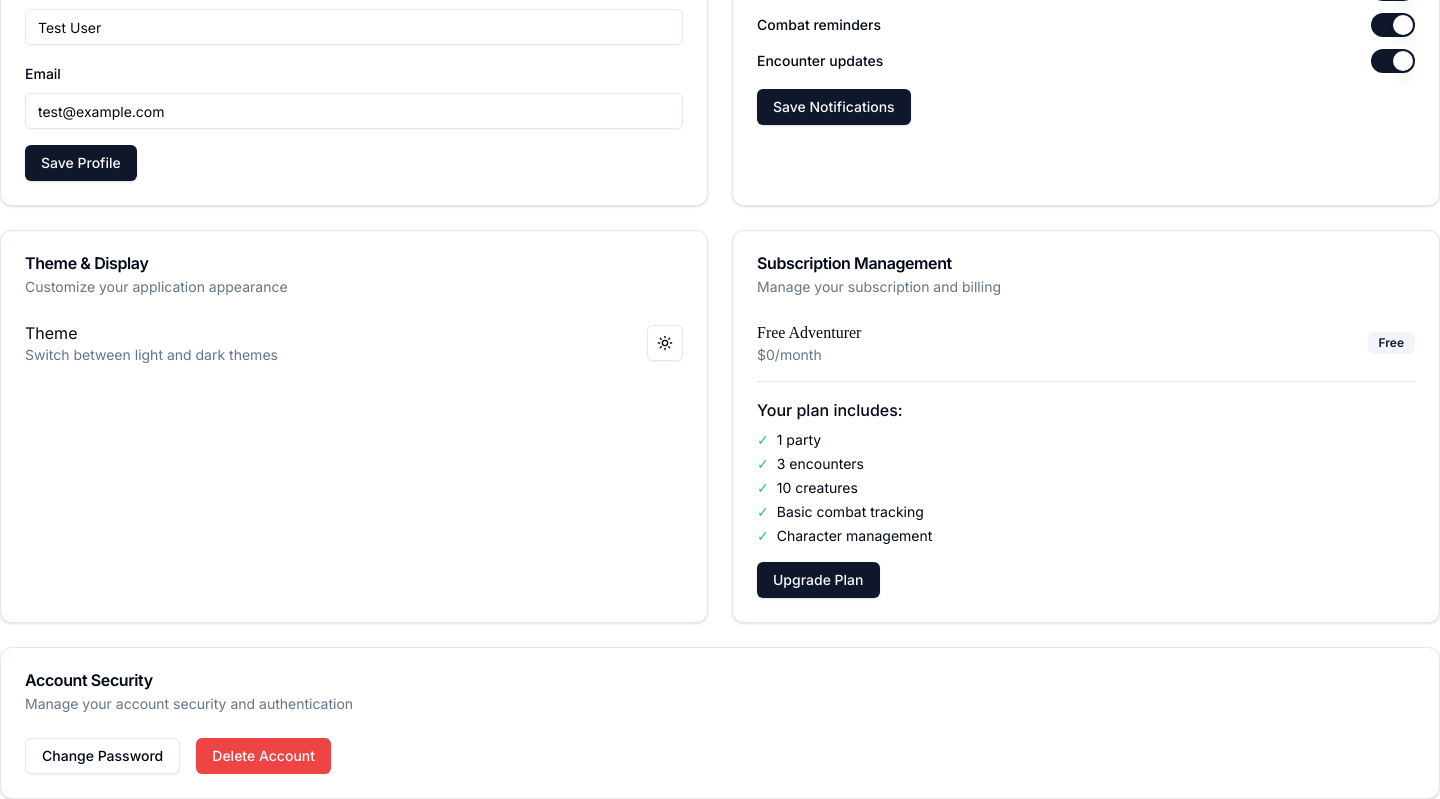
Test: Settings Component - Account Deletion › Delete Confirmation Modal › should close modal when cancel is clicked
(page scrolled)
Click the button "Delete Account".
click(264, 756)  # box [196,738,331,774]
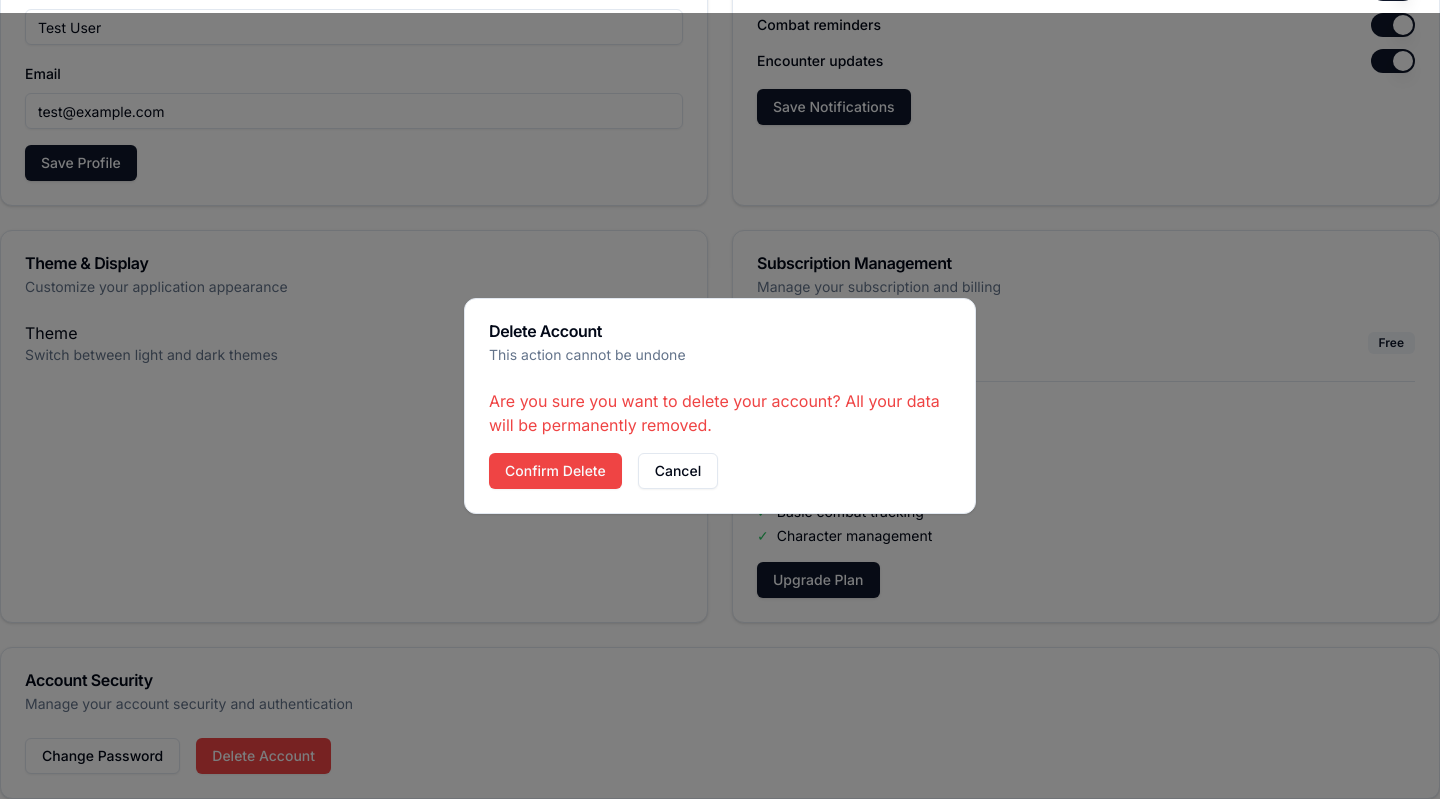
Click the button "Cancel".
click(678, 471)  # box [638,453,718,489]
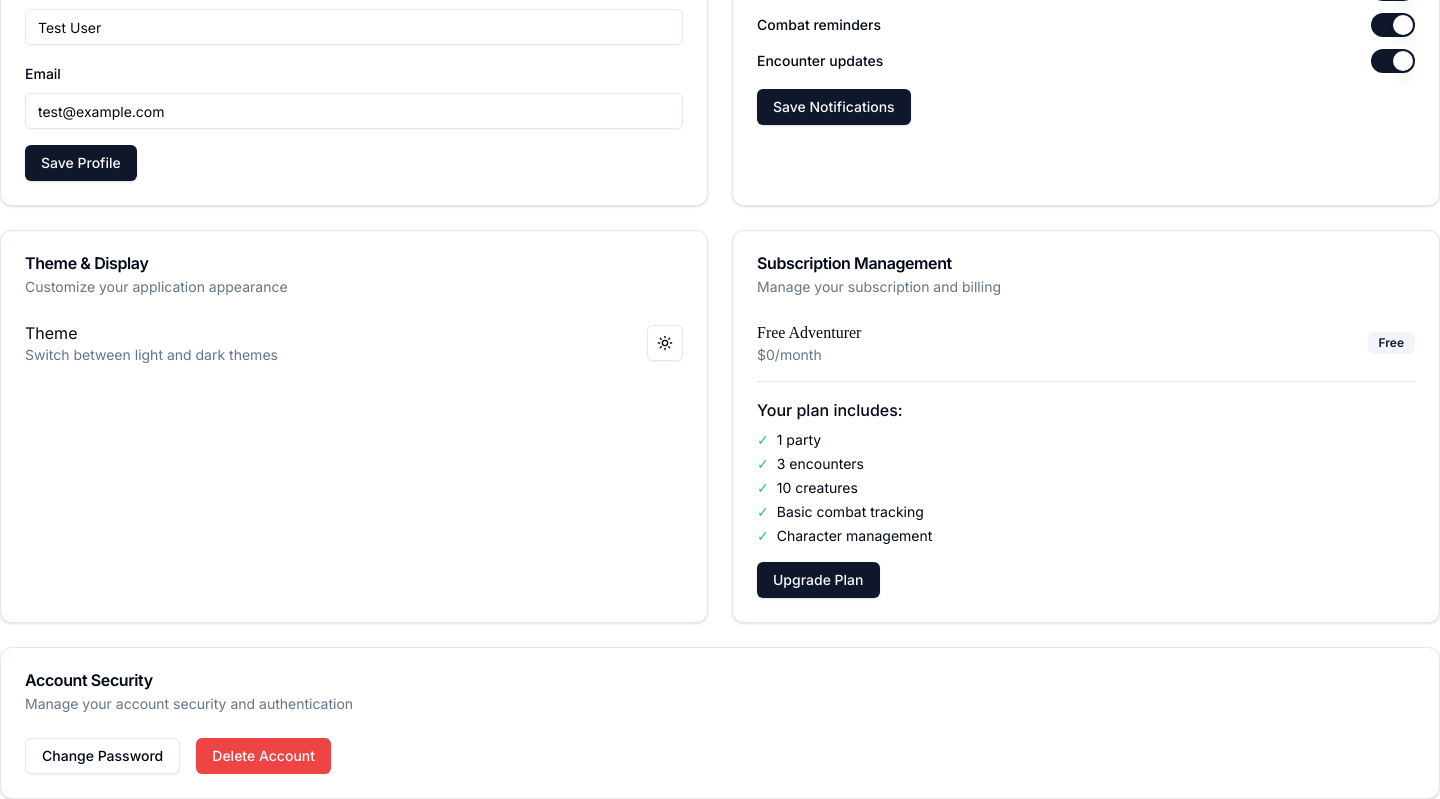
Check: the button "Confirm Delete" is gone
